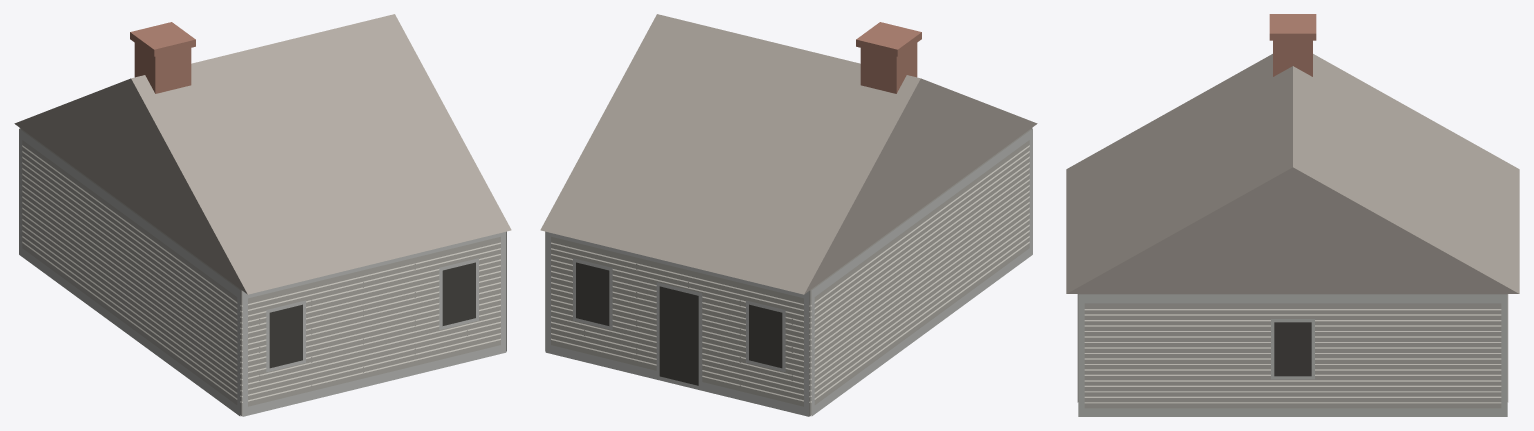
File: recon_1835_south_d5_011__inferred_1835.glb
3 renders of one model, left to right at view 1: azimuth 30°, elevation 25°; view 2: azimuth 150°, elevation 25°; view 3: azimuth 270°, elevation 25°, orthographic. The views are drawn at different scales.
Parts seen in each view (by area): view 1: recon_1835_south_d5_011__inferred_1835; view 2: recon_1835_south_d5_011__inferred_1835; view 3: recon_1835_south_d5_011__inferred_1835.
Part boxes in pixels (<box>): recon_1835_south_d5_011__inferred_1835: <box>14,14,511,416</box>; recon_1835_south_d5_011__inferred_1835: <box>540,14,1037,416</box>; recon_1835_south_d5_011__inferred_1835: <box>1066,14,1519,416</box>.
Bounding box in the file's own units: 6.28 × 6.55 × 9.51.
